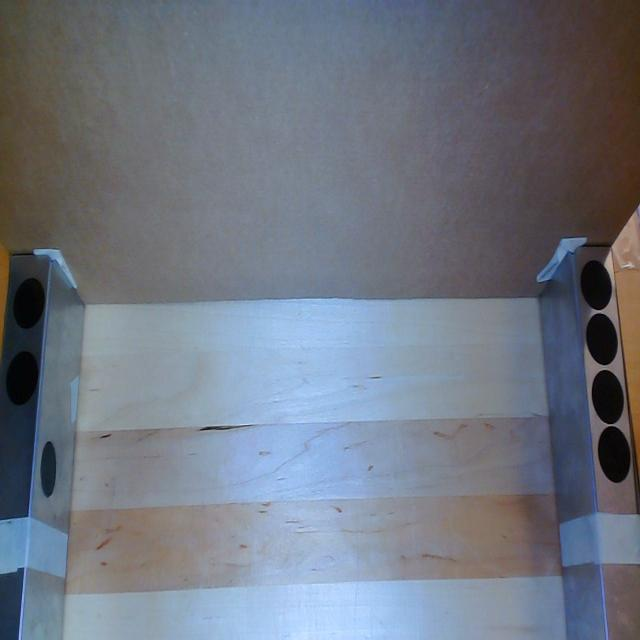Sticker: (597, 426, 633, 483), (5, 348, 39, 406), (592, 370, 625, 424), (12, 276, 46, 328), (580, 256, 612, 310), (586, 313, 619, 365), (40, 439, 57, 498)
